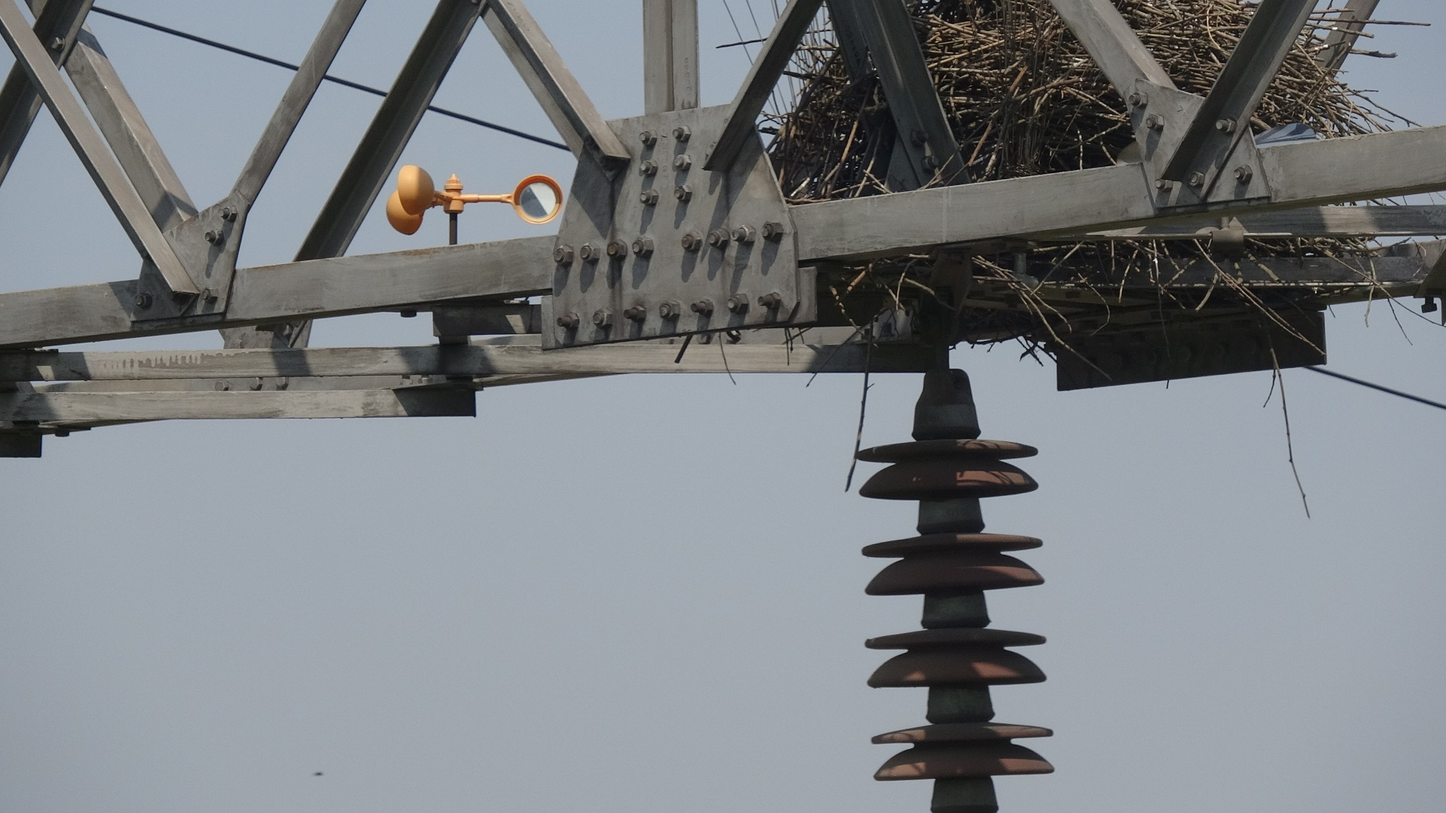insulator: (847, 430, 1067, 792)
